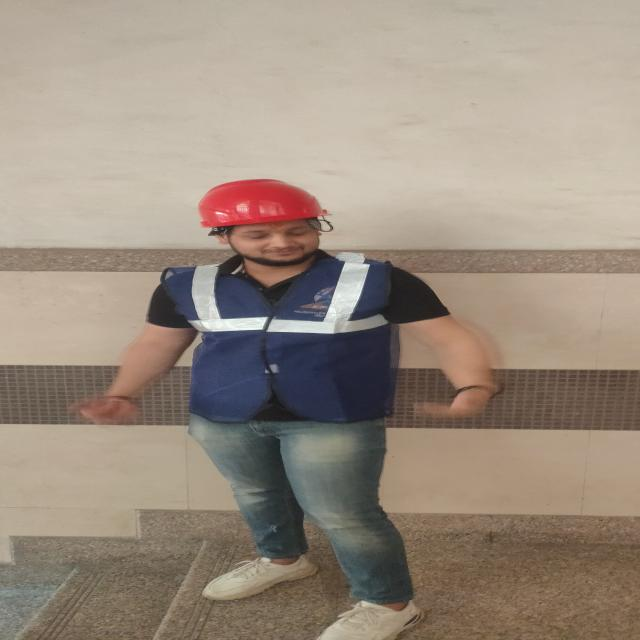safe: (159, 179, 421, 640)
